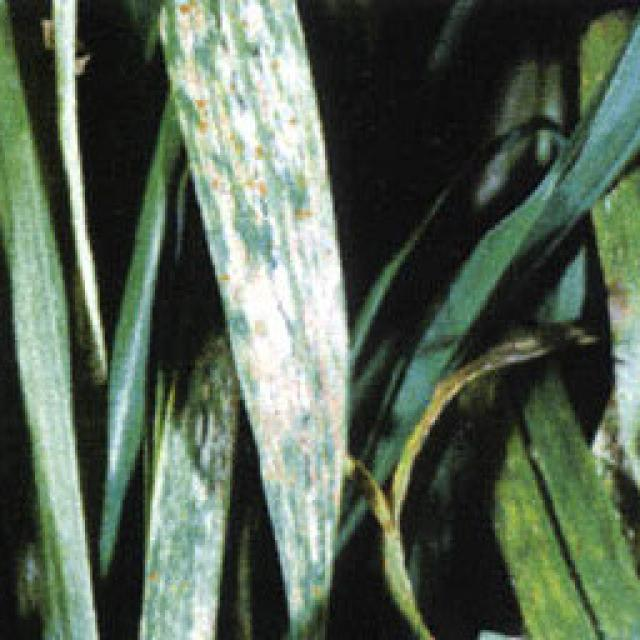wheat-powdery-mildew: (158, 0, 350, 640), (10, 115, 98, 640), (138, 365, 232, 640)
